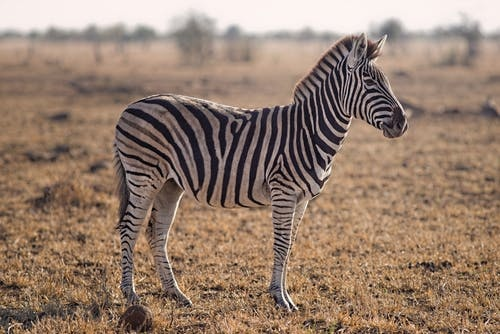zebra: (108, 28, 408, 312)
